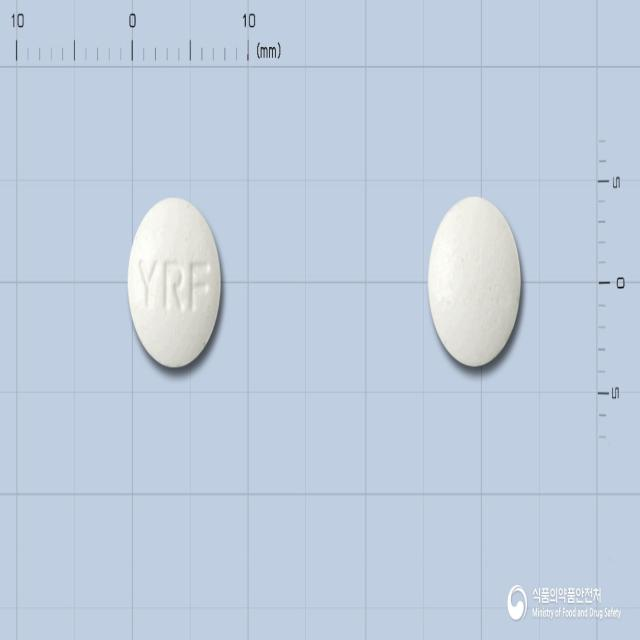Leprosin: (128, 198, 222, 370)
